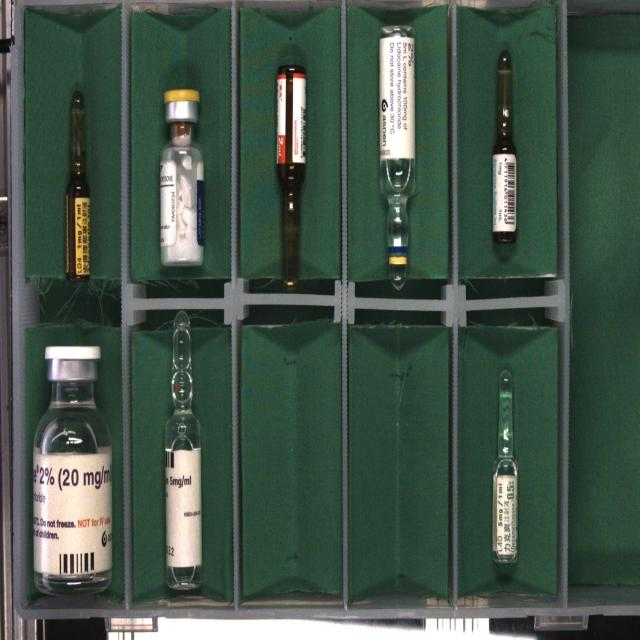Vials: (33, 346, 112, 594), (160, 89, 203, 266)
